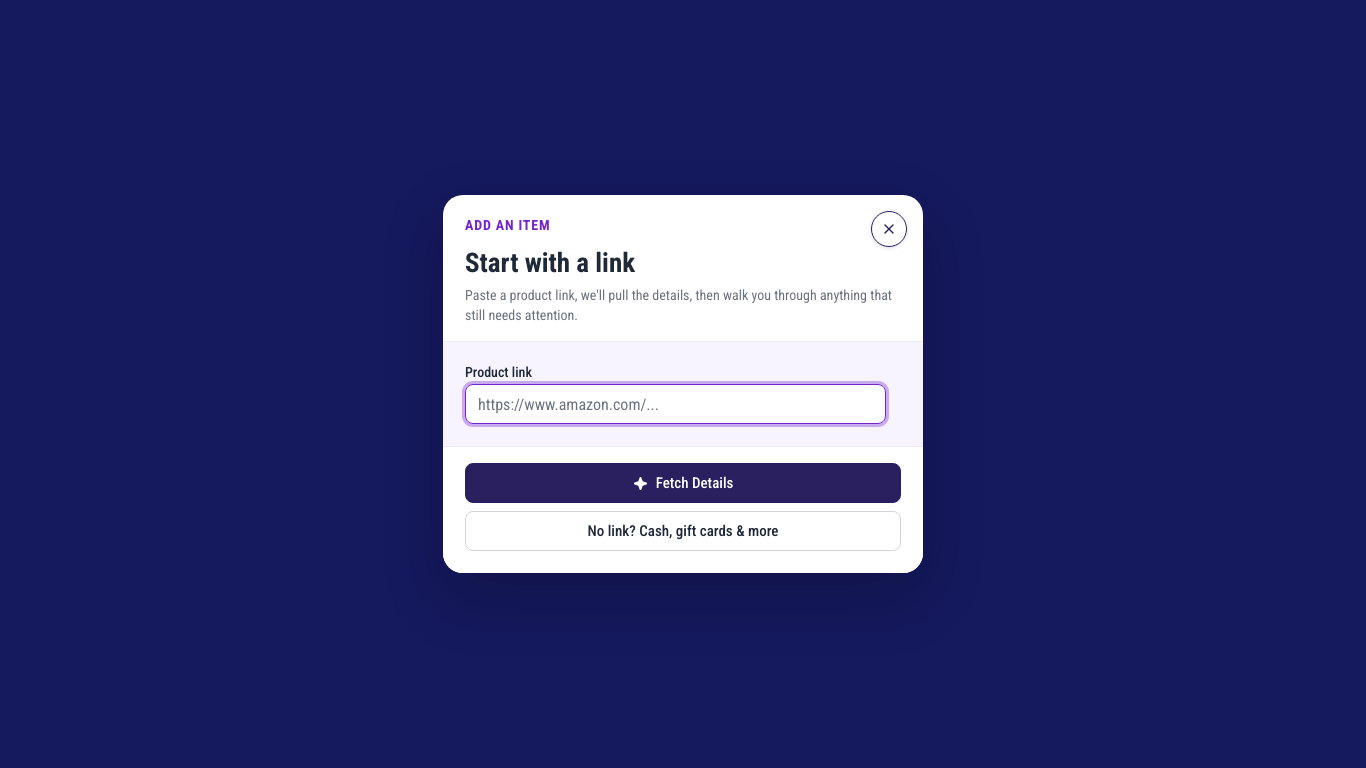
ItemFormContainer › LinklessDoor › DoorClick_OpensDeckDirectly-NoIntroNoFetch
What coordinates should you click on to do the following:
click the button "No link? Cash, gift cards & more"
I would click on:
 (683, 531)
Its box is [465, 511, 901, 551].
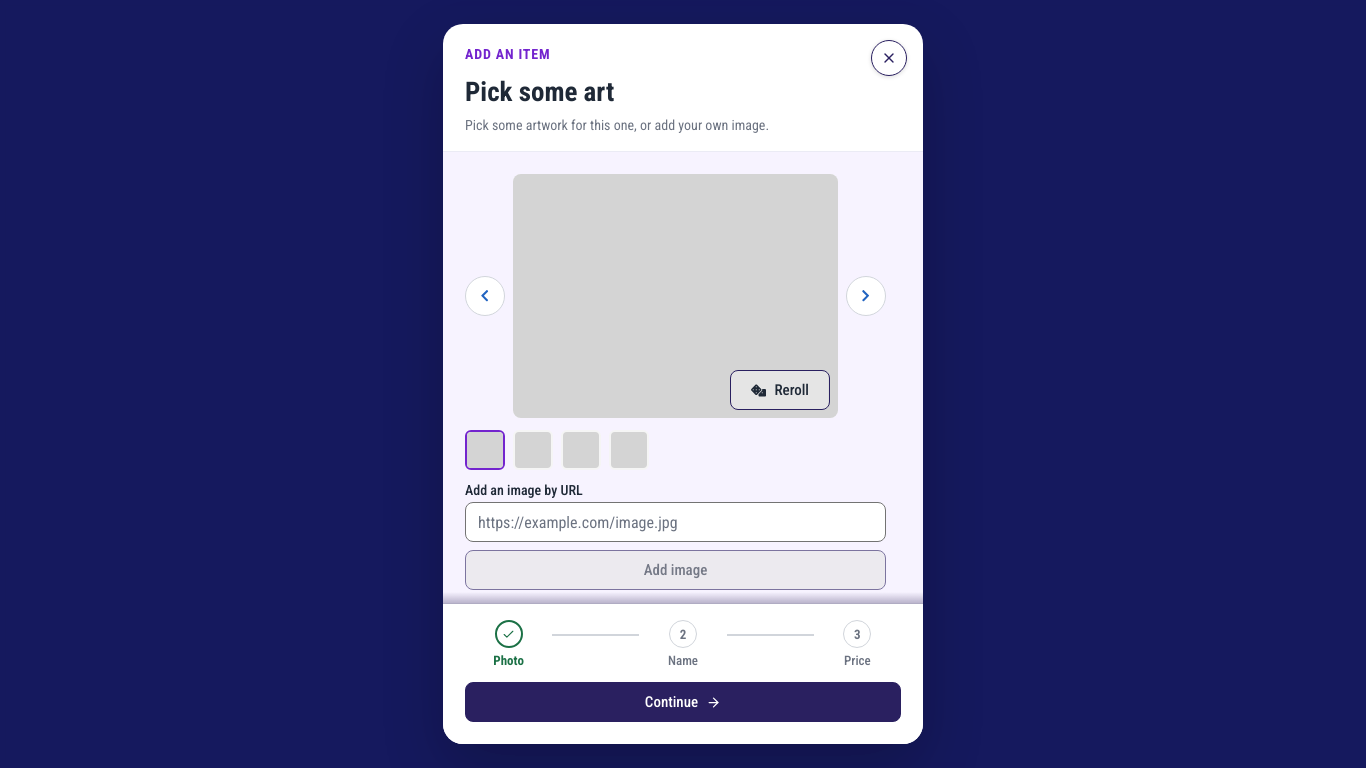
Expected: the heading "Pick some art" is shown, [465, 76, 614, 108]
